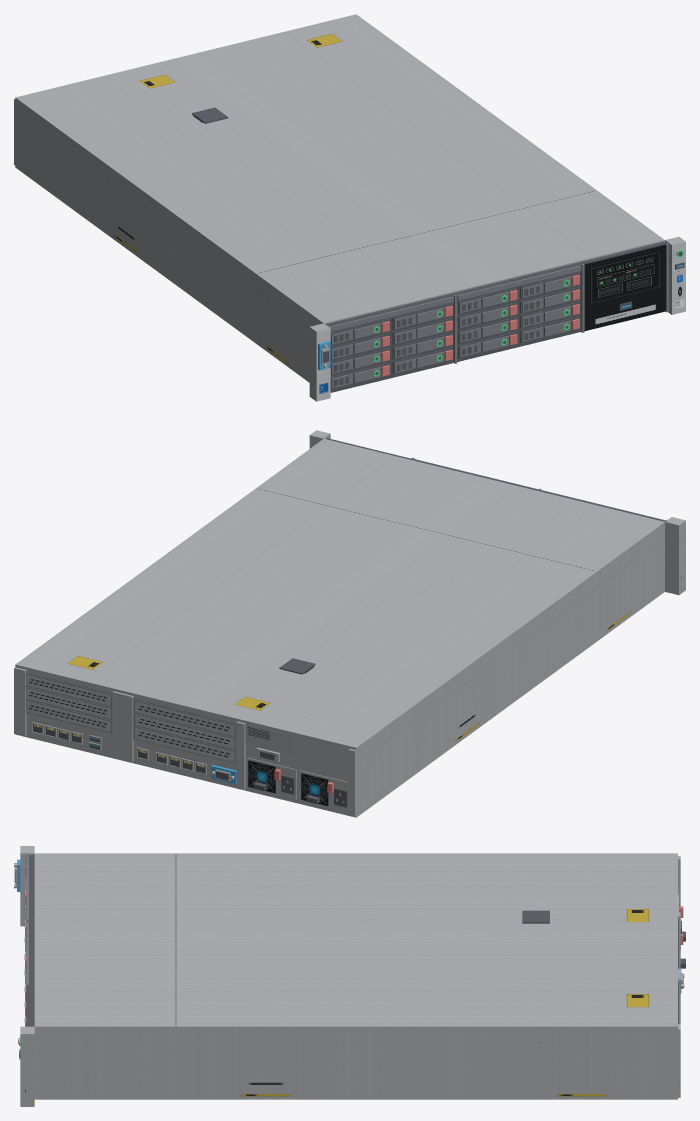
File: hpe_proliant_dl380p_gen8.glb
The picture shows the model from 3 angles, top to bottom: view 1: azimuth 30°, elevation 25°; view 2: azimuth 150°, elevation 25°; view 3: azimuth 270°, elevation 25°; orthographic projection. The views are drawn at different scales.
Parts seen in each view (by area): view 1: ChassisSteel, DarkCavityAndCaddies, CaddyHandlesAndFrames, FrontSIDPanel, RackEarsTrim, CoralRedLatches; view 2: ChassisSteel, RearPCIeRiserBlanks, DarkCavityAndCaddies, RearPSUFans, RearHexBulkhead; view 3: ChassisSteel, DarkCavityAndCaddies, CaddyHandlesAndFrames.
Part boxes in pixels (left/top/right/bottom): ChassisSteel: left=14, top=14, right=685, bottom=401; DarkCavityAndCaddies: left=192, top=107, right=684, bottom=392; CaddyHandlesAndFrames: left=328, top=243, right=668, bottom=388; FrontSIDPanel: left=584, top=244, right=665, bottom=330; RackEarsTrim: left=316, top=241, right=685, bottom=401; CoralRedLatches: left=381, top=274, right=579, bottom=376; ChassisSteel: left=14, top=430, right=685, bottom=817; RearPCIeRiserBlanks: left=26, top=673, right=236, bottom=764; DarkCavityAndCaddies: left=26, top=438, right=665, bottom=807; RearPSUFans: left=248, top=760, right=328, bottom=805; RearHexBulkhead: left=245, top=724, right=292, bottom=754; ChassisSteel: left=14, top=846, right=684, bottom=1106; DarkCavityAndCaddies: left=14, top=855, right=685, bottom=1059; CaddyHandlesAndFrames: left=25, top=854, right=29, bottom=1026.
Bounding box in the file's own units: 0.4825 × 0.0888 × 0.7288.
Materials: 12 (6 with a texture image).
